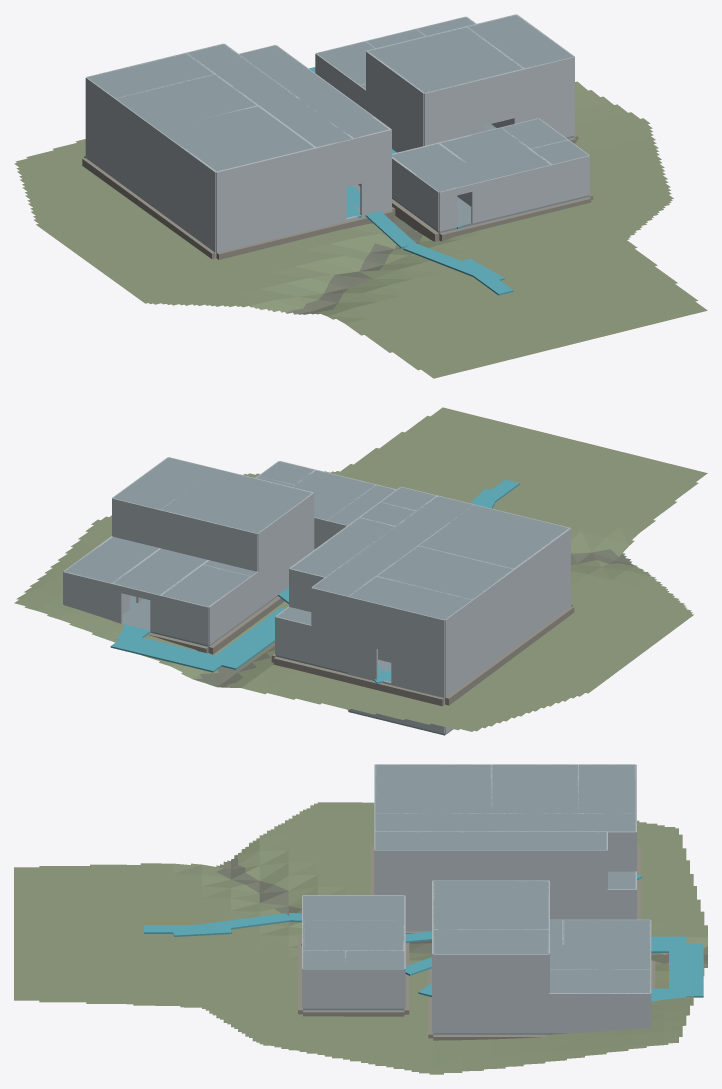
Rendered from supported-terrain.glb.
3 renders of one model, top to bottom at view 1: azimuth 30°, elevation 25°; view 2: azimuth 150°, elevation 25°; view 3: azimuth 270°, elevation 25°, orthographic. The views are drawn at different scales.
Parts seen in each view (by area): view 1: Saved editor macroterrain FARMHOUSE, Ceiling cap hayloft, Ceiling cap parents, Ceiling cap upper-hall, Ceiling cap children, Wall parents S, Wall hayloft S, Wall parlour S, Ceiling cap repair, Ceiling cap linen, Ceiling cap loft-landing, Ceiling cap upper-stair (+31 smaller); view 2: Saved editor macroterrain FARMHOUSE, Ceiling cap hayloft, Ceiling cap parents, Ceiling cap upper-hall, Ceiling cap children, Wall hayloft N, Wall linen N, Wall cleaner N, Ceiling cap loft-landing, Ceiling cap linen, Ceiling cap upper-stair, Wall hayloft W (+30 smaller); view 3: Saved editor macroterrain FARMHOUSE, Ceiling cap hayloft, Ceiling cap parents, Wall upper-stair E, Ceiling cap upper-hall, Wall loft-stair E, Wall loft-landing E, Ceiling cap children, Wall equipment E, Ceiling cap repair, Ceiling cap linen, Ceiling cap loft-landing (+22 smaller).
Part boxes in pixels (x1,y1,x2,y2): Saved editor macroterrain FARMHOUSE: (14, 81, 707, 378); Ceiling cap hayloft: (367, 27, 522, 92); Ceiling cap parents: (159, 106, 313, 171); Ceiling cap upper-hall: (187, 44, 351, 146); Ceiling cap children: (116, 74, 256, 129); Wall parents S: (216, 147, 316, 211); Wall hayloft S: (424, 68, 524, 132); Wall parlour S: (216, 187, 316, 250); Ceiling cap repair: (440, 128, 549, 179); Ceiling cap linen: (87, 53, 213, 98); Ceiling cap loft-landing: (467, 15, 573, 68); Ceiling cap upper-stair: (239, 45, 346, 106); Saved editor macroterrain FARMHOUSE: (14, 407, 707, 731); Ceiling cap hayloft: (161, 469, 312, 533); Ceiling cap parents: (419, 505, 569, 568); Ceiling cap upper-hall: (313, 496, 473, 596); Ceiling cap children: (377, 546, 513, 599); Wall hayloft N: (160, 510, 257, 571); Wall linen N: (347, 596, 444, 657); Wall cleaner N: (275, 616, 347, 672); Ceiling cap loft-landing: (113, 457, 216, 509); Ceiling cap linen: (349, 576, 471, 619); Ceiling cap upper-stair: (290, 517, 395, 576); Wall hayloft W: (257, 493, 314, 571); Saved editor macroterrain FARMHOUSE: (14, 802, 707, 1074); Ceiling cap hayloft: (433, 880, 548, 929); Ceiling cap parents: (375, 764, 490, 813); Wall upper-stair E: (462, 850, 606, 889); Ceiling cap upper-hall: (375, 813, 635, 831); Wall loft-stair E: (433, 994, 548, 1033); Wall loft-landing E: (433, 954, 548, 993); Ceiling cap children: (491, 764, 577, 813); Wall equipment E: (549, 993, 650, 1033); Ceiling cap repair: (303, 920, 404, 950); Ceiling cap linen: (578, 764, 635, 813); Ceiling cap loft-landing: (433, 929, 548, 953).
Bounding box in the file's own units: 45 × 9.16 × 48.
